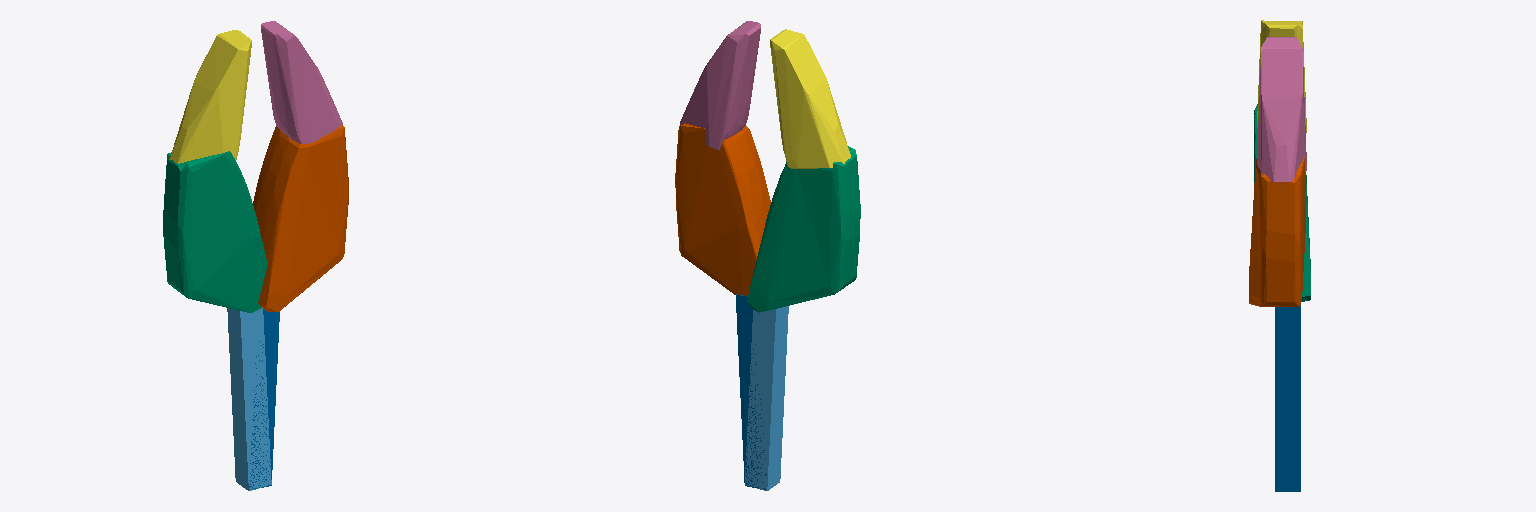
The robot description file, URDF, robot "lbr_iiwa_with_wsg50":
<?xml version="1.0" ?>
<robot name="lbr_iiwa_with_wsg50">
  <joint name="lbr_iiwa_with_wsg50__J0" type="revolute">
    <parent link="lbr_iiwa_with_wsg50__lbr_iiwa_link_0"/>
    <child link="lbr_iiwa_with_wsg50__lbr_iiwa_link_1"/>
    <origin rpy="0 0 0" xyz="0     0     0.1575"/>
    <axis xyz="0 0 1"/>
    <limit effort="300.0" lower="-2.96706" upper="2.96706" velocity="10.0"/>
  </joint>
  <joint name="lbr_iiwa_with_wsg50__J1" type="revolute">
    <parent link="lbr_iiwa_with_wsg50__lbr_iiwa_link_1"/>
    <child link="lbr_iiwa_with_wsg50__lbr_iiwa_link_2"/>
    <origin rpy="1.5708   0      -3.14159" xyz="0     0     0.2025"/>
    <axis xyz="0 0 1"/>
    <limit effort="300.0" lower="-2.0944" upper="2.0944" velocity="10.0"/>
  </joint>
  <joint name="lbr_iiwa_with_wsg50__J2" type="revolute">
    <parent link="lbr_iiwa_with_wsg50__lbr_iiwa_link_2"/>
    <child link="lbr_iiwa_with_wsg50__lbr_iiwa_link_3"/>
    <origin rpy="1.5708   0      -3.14159" xyz="0     0.2045 0"/>
    <axis xyz="0 0 1"/>
    <limit effort="300.0" lower="-2.96706" upper="2.96706" velocity="10.0"/>
  </joint>
  <joint name="lbr_iiwa_with_wsg50__J3" type="revolute">
    <parent link="lbr_iiwa_with_wsg50__lbr_iiwa_link_3"/>
    <child link="lbr_iiwa_with_wsg50__lbr_iiwa_link_4"/>
    <origin rpy="1.5708 0     0" xyz="0     0     0.2155"/>
    <axis xyz="0 0 1"/>
    <limit effort="300.0" lower="-2.0944" upper="2.0944" velocity="10.0"/>
  </joint>
  <joint name="lbr_iiwa_with_wsg50__J4" type="revolute">
    <parent link="lbr_iiwa_with_wsg50__lbr_iiwa_link_4"/>
    <child link="lbr_iiwa_with_wsg50__lbr_iiwa_link_5"/>
    <origin rpy="1.5708  0      3.14159" xyz="0     0.1845 0"/>
    <axis xyz="0 0 1"/>
    <limit effort="300.0" lower="-2.96706" upper="2.96706" velocity="10.0"/>
  </joint>
  <joint name="lbr_iiwa_with_wsg50__J5" type="revolute">
    <parent link="lbr_iiwa_with_wsg50__lbr_iiwa_link_5"/>
    <child link="lbr_iiwa_with_wsg50__lbr_iiwa_link_6"/>
    <origin rpy="1.5708 0     0" xyz="0     0     0.2155"/>
    <axis xyz="0 0 1"/>
    <limit effort="300.0" lower="-2.0944" upper="2.0944" velocity="10.0"/>
  </joint>
  <joint name="lbr_iiwa_with_wsg50__J6" type="revolute">
    <parent link="lbr_iiwa_with_wsg50__lbr_iiwa_link_6"/>
    <child link="lbr_iiwa_with_wsg50__lbr_iiwa_link_7"/>
    <origin rpy="1.5708   0      -3.14159" xyz="0    0.081 0"/>
    <axis xyz="0 0 1"/>
    <limit effort="300.0" lower="-3.05433" upper="3.05433" velocity="10.0"/>
  </joint>
  <joint name="lbr_iiwa_with_wsg50__gripper_to_arm" type="continuous">
    <parent link="lbr_iiwa_with_wsg50__lbr_iiwa_link_7"/>
    <child link="lbr_iiwa_with_wsg50__base_link"/>
    <origin rpy="0 0 0" xyz="0    0    0.044"/>
    <axis xyz="0 0 1"/>
    <limit effort="0" lower="0" upper="0" velocity="0"/>
  </joint>
  <joint name="lbr_iiwa_with_wsg50__base_left_finger_joint" type="revolute">
    <parent link="lbr_iiwa_with_wsg50__base_link"/>
    <child link="lbr_iiwa_with_wsg50__left_finger"/>
    <origin rpy="0   -0.05  0" xyz="0    0.024 0.045"/>
    <axis xyz="0 1 0"/>
    <limit effort="100.0" lower="-10.4" upper="10.01" velocity="0.0"/>
  </joint>
  <joint name="lbr_iiwa_with_wsg50__left_finger_base_joint" type="fixed">
    <parent link="lbr_iiwa_with_wsg50__left_finger"/>
    <child link="lbr_iiwa_with_wsg50__left_finger_base"/>
    <origin rpy="0   -0.25  0" xyz="-0.00099  0       0.08015"/>
    <axis xyz="0 0 0"/>
    <limit effort="0" lower="0" upper="0" velocity="0"/>
  </joint>
  <joint name="lbr_iiwa_with_wsg50__left_base_tip_joint" type="revolute">
    <parent link="lbr_iiwa_with_wsg50__left_finger_base"/>
    <child link="lbr_iiwa_with_wsg50__left_finger_tip"/>
    <origin rpy="0  0.5 0" xyz="0.0034  0      0.06175"/>
    <axis xyz="0 1 0"/>
    <limit effort="0.0" lower="-10.1" upper="10.3" velocity="0.0"/>
  </joint>
  <joint name="lbr_iiwa_with_wsg50__base_right_finger_joint" type="revolute">
    <parent link="lbr_iiwa_with_wsg50__base_link"/>
    <child link="lbr_iiwa_with_wsg50__right_finger"/>
    <origin rpy="0   0.05 0" xyz="0    0.024 0.045"/>
    <axis xyz="0 1 0"/>
    <limit effort="100.0" lower="-10.01" upper="10.4" velocity="0.0"/>
  </joint>
  <joint name="lbr_iiwa_with_wsg50__right_finger_base_joint" type="fixed">
    <parent link="lbr_iiwa_with_wsg50__right_finger"/>
    <child link="lbr_iiwa_with_wsg50__right_finger_base"/>
    <origin rpy="0   0.25 0" xyz="0.00099 0      0.08015"/>
    <axis xyz="0 0 0"/>
    <limit effort="0" lower="0" upper="0" velocity="0"/>
  </joint>
  <joint name="lbr_iiwa_with_wsg50__right_base_tip_joint" type="revolute">
    <parent link="lbr_iiwa_with_wsg50__right_finger_base"/>
    <child link="lbr_iiwa_with_wsg50__right_finger_tip"/>
    <origin rpy="0  -0.5  0" xyz="-0.0034   0       0.06175"/>
    <axis xyz="0 1 0"/>
    <limit effort="0.0" lower="-10.3" upper="10.1" velocity="0.0"/>
  </joint>
  <link name="lbr_iiwa_with_wsg50__lbr_iiwa_link_0">
    <inertial>
      <mass value="0"/>
      <origin rpy="0 0 0" xyz="-0.1   0    0.07"/>
      <inertia ixx="0.05" ixy="0" ixz="0" iyy="0.06" iyz="0" izz="0.03"/>
    </inertial>
    <collision name="lbr_iiwa_with_wsg50__lbr_iiwa_link_0_collision">
      <origin rpy="0 0 0" xyz="0 0 0"/>
      <geometry>
        <mesh filename="meshes/finger_tip_left.stl OR meshes/link_3.stl OR meshes/finger_base_right.stl OR meshes/link_5.stl OR meshes/link_7.stl OR meshes/link_0.stl OR meshes/finger_tip_right.stl OR meshes/link_1.stl OR meshes/link_4.stl OR meshes/link_6.stl OR meshes/link_2.stl OR meshes/finger_base_left.stl" scale="1 1 1"/>
      </geometry>
    </collision>
    <visual name="lbr_iiwa_with_wsg50__lbr_iiwa_link_0_visual">
      <origin rpy="0 0 0" xyz="0 0 0"/>
      <geometry>
        <mesh filename="meshes/link_0.obj " scale="1 1 1"/>
      </geometry>
    </visual>
  </link>
  <link name="lbr_iiwa_with_wsg50__lbr_iiwa_link_1">
    <inertial>
      <mass value="4"/>
      <origin rpy="0 0 0" xyz="0   -0.03  0.12"/>
      <inertia ixx="0.1" ixy="0" ixz="0" iyy="0.09" iyz="0" izz="0.02"/>
    </inertial>
    <collision name="lbr_iiwa_with_wsg50__lbr_iiwa_link_1_collision">
      <origin rpy="0 0 0" xyz="0 0 0"/>
      <geometry>
        <mesh filename="meshes/finger_tip_left.stl OR meshes/link_3.stl OR meshes/finger_base_right.stl OR meshes/link_5.stl OR meshes/link_7.stl OR meshes/link_0.stl OR meshes/finger_tip_right.stl OR meshes/link_1.stl OR meshes/link_4.stl OR meshes/link_6.stl OR meshes/link_2.stl OR meshes/finger_base_left.stl" scale="1 1 1"/>
      </geometry>
    </collision>
    <visual name="lbr_iiwa_with_wsg50__lbr_iiwa_link_1_visual">
      <origin rpy="0 0 0" xyz="0 0 0"/>
      <geometry>
        <mesh filename="meshes/link_1.obj" scale="1 1 1"/>
      </geometry>
    </visual>
  </link>
  <link name="lbr_iiwa_with_wsg50__lbr_iiwa_link_2">
    <inertial>
      <mass value="4"/>
      <origin rpy="0 0 0" xyz="0.00029 0.059   0.042"/>
      <inertia ixx="0.05" ixy="0" ixz="0" iyy="0.018" iyz="0" izz="0.044"/>
    </inertial>
    <collision name="lbr_iiwa_with_wsg50__lbr_iiwa_link_2_collision">
      <origin rpy="0 0 0" xyz="0 0 0"/>
      <geometry>
        <mesh filename="meshes/finger_tip_left.stl OR meshes/link_3.stl OR meshes/finger_base_right.stl OR meshes/link_5.stl OR meshes/link_7.stl OR meshes/link_0.stl OR meshes/finger_tip_right.stl OR meshes/link_1.stl OR meshes/link_4.stl OR meshes/link_6.stl OR meshes/link_2.stl OR meshes/finger_base_left.stl" scale="1 1 1"/>
      </geometry>
    </collision>
    <visual name="lbr_iiwa_with_wsg50__lbr_iiwa_link_2_visual">
      <origin rpy="0 0 0" xyz="0 0 0"/>
      <geometry>
        <mesh filename="meshes/link_2.obj" scale="1 1 1"/>
      </geometry>
    </visual>
  </link>
  <link name="lbr_iiwa_with_wsg50__lbr_iiwa_link_3">
    <inertial>
      <mass value="3"/>
      <origin rpy="0 0 0" xyz="0   0.03 0.13"/>
      <inertia ixx="0.08" ixy="0" ixz="0" iyy="0.075" iyz="0" izz="0.01"/>
    </inertial>
    <collision name="lbr_iiwa_with_wsg50__lbr_iiwa_link_3_collision">
      <origin rpy="0 0 0" xyz="0 0 0"/>
      <geometry>
        <mesh filename="meshes/finger_tip_left.stl OR meshes/link_3.stl OR meshes/finger_base_right.stl OR meshes/link_5.stl OR meshes/link_7.stl OR meshes/link_0.stl OR meshes/finger_tip_right.stl OR meshes/link_1.stl OR meshes/link_4.stl OR meshes/link_6.stl OR meshes/link_2.stl OR meshes/finger_base_left.stl" scale="1 1 1"/>
      </geometry>
    </collision>
    <visual name="lbr_iiwa_with_wsg50__lbr_iiwa_link_3_visual">
      <origin rpy="0 0 0" xyz="0 0 0"/>
      <geometry>
        <mesh filename="meshes/link_3.obj" scale="1 1 1"/>
      </geometry>
    </visual>
  </link>
  <link name="lbr_iiwa_with_wsg50__lbr_iiwa_link_4">
    <inertial>
      <mass value="2.7"/>
      <origin rpy="0 0 0" xyz="0    0.067 0.034"/>
      <inertia ixx="0.03" ixy="0" ixz="0" iyy="0.01" iyz="0" izz="0.029"/>
    </inertial>
    <collision name="lbr_iiwa_with_wsg50__lbr_iiwa_link_4_collision">
      <origin rpy="0 0 0" xyz="0 0 0"/>
      <geometry>
        <mesh filename="meshes/finger_tip_left.stl OR meshes/link_3.stl OR meshes/finger_base_right.stl OR meshes/link_5.stl OR meshes/link_7.stl OR meshes/link_0.stl OR meshes/finger_tip_right.stl OR meshes/link_1.stl OR meshes/link_4.stl OR meshes/link_6.stl OR meshes/link_2.stl OR meshes/finger_base_left.stl" scale="1 1 1"/>
      </geometry>
    </collision>
    <visual name="lbr_iiwa_with_wsg50__lbr_iiwa_link_4_visual">
      <origin rpy="0 0 0" xyz="0 0 0"/>
      <geometry>
        <mesh filename="meshes/link_4.obj" scale="1 1 1"/>
      </geometry>
    </visual>
  </link>
  <link name="lbr_iiwa_with_wsg50__lbr_iiwa_link_5">
    <inertial>
      <mass value="1.7"/>
      <origin rpy="0 0 0" xyz="0.0001 0.021  0.076"/>
      <inertia ixx="0.02" ixy="0" ixz="0" iyy="0.018" iyz="0" izz="0.005"/>
    </inertial>
    <collision name="lbr_iiwa_with_wsg50__lbr_iiwa_link_5_collision">
      <origin rpy="0 0 0" xyz="0 0 0"/>
      <geometry>
        <mesh filename="meshes/finger_tip_left.stl OR meshes/link_3.stl OR meshes/finger_base_right.stl OR meshes/link_5.stl OR meshes/link_7.stl OR meshes/link_0.stl OR meshes/finger_tip_right.stl OR meshes/link_1.stl OR meshes/link_4.stl OR meshes/link_6.stl OR meshes/link_2.stl OR meshes/finger_base_left.stl" scale="1 1 1"/>
      </geometry>
    </collision>
    <visual name="lbr_iiwa_with_wsg50__lbr_iiwa_link_5_visual">
      <origin rpy="0 0 0" xyz="0 0 0"/>
      <geometry>
        <mesh filename="meshes/link_5.obj" scale="1 1 1"/>
      </geometry>
    </visual>
  </link>
  <link name="lbr_iiwa_with_wsg50__lbr_iiwa_link_6">
    <inertial>
      <mass value="1.8"/>
      <origin rpy="0 0 0" xyz="0      0.00059 0.0004"/>
      <inertia ixx="0.005" ixy="0" ixz="0" iyy="0.0036" iyz="0" izz="0.0047"/>
    </inertial>
    <collision name="lbr_iiwa_with_wsg50__lbr_iiwa_link_6_collision">
      <origin rpy="0 0 0" xyz="0 0 0"/>
      <geometry>
        <mesh filename="meshes/finger_tip_left.stl OR meshes/link_3.stl OR meshes/finger_base_right.stl OR meshes/link_5.stl OR meshes/link_7.stl OR meshes/link_0.stl OR meshes/finger_tip_right.stl OR meshes/link_1.stl OR meshes/link_4.stl OR meshes/link_6.stl OR meshes/link_2.stl OR meshes/finger_base_left.stl" scale="1 1 1"/>
      </geometry>
    </collision>
    <visual name="lbr_iiwa_with_wsg50__lbr_iiwa_link_6_visual">
      <origin rpy="0 0 0" xyz="0 0 0"/>
      <geometry>
        <mesh filename="meshes/link_6.obj" scale="1 1 1"/>
      </geometry>
    </visual>
  </link>
  <link name="lbr_iiwa_with_wsg50__lbr_iiwa_link_7">
    <inertial>
      <mass value="1.3"/>
      <origin rpy="0 0 0" xyz="0   0   0.02"/>
      <inertia ixx="0.001" ixy="0" ixz="0" iyy="0.001" iyz="0" izz="0.001"/>
    </inertial>
    <collision name="lbr_iiwa_with_wsg50__lbr_iiwa_link_7_collision">
      <origin rpy="0 0 0" xyz="0 0 0"/>
      <geometry>
        <mesh filename="meshes/finger_tip_left.stl OR meshes/link_3.stl OR meshes/finger_base_right.stl OR meshes/link_5.stl OR meshes/link_7.stl OR meshes/link_0.stl OR meshes/finger_tip_right.stl OR meshes/link_1.stl OR meshes/link_4.stl OR meshes/link_6.stl OR meshes/link_2.stl OR meshes/finger_base_left.stl" scale="1 1 1"/>
      </geometry>
    </collision>
    <visual name="lbr_iiwa_with_wsg50__lbr_iiwa_link_7_visual">
      <origin rpy="0 0 0" xyz="0 0 0"/>
      <geometry>
        <mesh filename="meshes/link_7.obj" scale="1 1 1"/>
      </geometry>
    </visual>
  </link>
  <link name="lbr_iiwa_with_wsg50__base_link">
    <inertial>
      <mass value="0.2"/>
      <origin rpy="0 0 0" xyz="0 0 0"/>
      <inertia ixx="1" ixy="0" ixz="0" iyy="1" iyz="0" izz="1"/>
    </inertial>
    <collision name="lbr_iiwa_with_wsg50__base_link_collision">
      <origin rpy="0 0 0" xyz="0 0 0"/>
      <geometry>
        <box size="0.05 0.05 0.1"/>
      </geometry>
    </collision>
    <visual name="lbr_iiwa_with_wsg50__base_link_visual">
      <origin rpy="0 0 0" xyz="0 0 0"/>
      <geometry>
        <mesh filename="meshes/link_7.obj" scale="1 1 1"/>
      </geometry>
    </visual>
  </link>
  <link name="lbr_iiwa_with_wsg50__left_finger">
    <inertial>
      <mass value="0.2"/>
      <origin rpy="0 0 0" xyz="0   0   0.04"/>
      <inertia ixx="0.1" ixy="0" ixz="0" iyy="0.1" iyz="0" izz="0.1"/>
    </inertial>
    <collision name="lbr_iiwa_with_wsg50__left_finger_collision">
      <origin rpy="0 0 0" xyz="0   0   0.04"/>
      <geometry>
        <box size="0.01 0.01 0.08"/>
      </geometry>
    </collision>
    <visual name="lbr_iiwa_with_wsg50__left_finger_visual">
      <origin rpy="0 0 0" xyz="0   0   0.04"/>
      <geometry>
        <box size="0.01 0.01 0.08"/>
      </geometry>
    </visual>
  </link>
  <link name="lbr_iiwa_with_wsg50__left_finger_base">
    <inertial>
      <mass value="0.2"/>
      <origin rpy="0 0 0" xyz="-0.003  0     0.04"/>
      <inertia ixx="0.1" ixy="0" ixz="0" iyy="0.1" iyz="0" izz="0.1"/>
    </inertial>
    <collision name="lbr_iiwa_with_wsg50__left_finger_base_collision">
      <origin rpy="0 0 0" xyz="0 0 0"/>
      <geometry>
        <mesh filename="meshes/finger_tip_left.stl OR meshes/link_3.stl OR meshes/finger_base_right.stl OR meshes/link_5.stl OR meshes/link_7.stl OR meshes/link_0.stl OR meshes/finger_tip_right.stl OR meshes/link_1.stl OR meshes/link_4.stl OR meshes/link_6.stl OR meshes/link_2.stl OR meshes/finger_base_left.stl" scale="1 1 1"/>
      </geometry>
    </collision>
    <visual name="lbr_iiwa_with_wsg50__left_finger_base_visual">
      <origin rpy="0 0 0" xyz="0 0 0"/>
      <geometry>
        <mesh filename="meshes/finger_base_left.obj" scale="1 1 1"/>
      </geometry>
    </visual>
  </link>
  <link name="lbr_iiwa_with_wsg50__left_finger_tip">
    <inertial>
      <mass value="0.2"/>
      <origin rpy="0 0 0" xyz="-0.005  0     0.026"/>
      <inertia ixx="0.1" ixy="0" ixz="0" iyy="0.1" iyz="0" izz="0.1"/>
    </inertial>
    <collision name="lbr_iiwa_with_wsg50__left_finger_tip_collision">
      <origin rpy="0 0 0" xyz="0 0 0"/>
      <geometry>
        <mesh filename="meshes/finger_tip_left.stl OR meshes/link_3.stl OR meshes/finger_base_right.stl OR meshes/link_5.stl OR meshes/link_7.stl OR meshes/link_0.stl OR meshes/finger_tip_right.stl OR meshes/link_1.stl OR meshes/link_4.stl OR meshes/link_6.stl OR meshes/link_2.stl OR meshes/finger_base_left.stl" scale="1 1 1"/>
      </geometry>
    </collision>
    <visual name="lbr_iiwa_with_wsg50__left_finger_tip_visual">
      <origin rpy="0 0 0" xyz="0 0 0"/>
      <geometry>
        <mesh filename="meshes/finger_tip_left.obj" scale="1 1 1"/>
      </geometry>
    </visual>
  </link>
  <link name="lbr_iiwa_with_wsg50__right_finger">
    <inertial>
      <mass value="0.2"/>
      <origin rpy="0 0 0" xyz="0   0   0.04"/>
      <inertia ixx="0.1" ixy="0" ixz="0" iyy="0.1" iyz="0" izz="0.1"/>
    </inertial>
    <collision name="lbr_iiwa_with_wsg50__right_finger_collision">
      <origin rpy="0 0 0" xyz="0   0   0.04"/>
      <geometry>
        <box size="0.01 0.01 0.08"/>
      </geometry>
    </collision>
    <visual name="lbr_iiwa_with_wsg50__right_finger_visual">
      <origin rpy="0 0 0" xyz="0   0   0.04"/>
      <geometry>
        <box size="0.01 0.01 0.08"/>
      </geometry>
    </visual>
  </link>
  <link name="lbr_iiwa_with_wsg50__right_finger_base">
    <inertial>
      <mass value="0.2"/>
      <origin rpy="0 0 0" xyz="0.003 0    0.04"/>
      <inertia ixx="0.1" ixy="0" ixz="0" iyy="0.1" iyz="0" izz="0.1"/>
    </inertial>
    <collision name="lbr_iiwa_with_wsg50__right_finger_base_collision">
      <origin rpy="0 0 0" xyz="0 0 0"/>
      <geometry>
        <mesh filename="meshes/finger_tip_left.stl OR meshes/link_3.stl OR meshes/finger_base_right.stl OR meshes/link_5.stl OR meshes/link_7.stl OR meshes/link_0.stl OR meshes/finger_tip_right.stl OR meshes/link_1.stl OR meshes/link_4.stl OR meshes/link_6.stl OR meshes/link_2.stl OR meshes/finger_base_left.stl" scale="1 1 1"/>
      </geometry>
    </collision>
    <visual name="lbr_iiwa_with_wsg50__right_finger_base_visual">
      <origin rpy="0 0 0" xyz="0 0 0"/>
      <geometry>
        <mesh filename="meshes/finger_base_right.obj" scale="1 1 1"/>
      </geometry>
    </visual>
  </link>
  <link name="lbr_iiwa_with_wsg50__right_finger_tip">
    <inertial>
      <mass value="0.2"/>
      <origin rpy="0 0 0" xyz="0.005 0    0.026"/>
      <inertia ixx="0.1" ixy="0" ixz="0" iyy="0.1" iyz="0" izz="0.1"/>
    </inertial>
    <collision name="lbr_iiwa_with_wsg50__right_finger_tip_collision">
      <origin rpy="0 0 0" xyz="0 0 0"/>
      <geometry>
        <mesh filename="meshes/finger_tip_left.stl OR meshes/link_3.stl OR meshes/finger_base_right.stl OR meshes/link_5.stl OR meshes/link_7.stl OR meshes/link_0.stl OR meshes/finger_tip_right.stl OR meshes/link_1.stl OR meshes/link_4.stl OR meshes/link_6.stl OR meshes/link_2.stl OR meshes/finger_base_left.stl" scale="1 1 1"/>
      </geometry>
    </collision>
    <visual name="lbr_iiwa_with_wsg50__right_finger_visual">
      <origin rpy="0 0 0" xyz="0 0 0"/>
      <geometry>
        <mesh filename="meshes/finger_tip_right.obj" scale="1 1 1"/>
      </geometry>
    </visual>
  </link>
</robot>

--- Facts derived from the render (not from the file) ---
The picture shows the robot from 3 angles, left to right: view 1: azimuth 30°, elevation 25°; view 2: azimuth 150°, elevation 25°; view 3: azimuth 270°, elevation 25°; orthographic projection.
Robot: lbr_iiwa_with_wsg50 — 15 links, 14 joints (11 revolute, 1 continuous, 2 fixed); root link lbr_iiwa_with_wsg50__lbr_iiwa_link_0; default pose: every joint at zero.
Links seen in each view (by area): view 1: lbr_iiwa_with_wsg50__left_finger_base, lbr_iiwa_with_wsg50__right_finger_base, lbr_iiwa_with_wsg50__left_finger_tip, lbr_iiwa_with_wsg50__left_finger, lbr_iiwa_with_wsg50__right_finger_tip, lbr_iiwa_with_wsg50__right_finger; view 2: lbr_iiwa_with_wsg50__left_finger_base, lbr_iiwa_with_wsg50__right_finger_base, lbr_iiwa_with_wsg50__left_finger_tip, lbr_iiwa_with_wsg50__left_finger, lbr_iiwa_with_wsg50__right_finger_tip, lbr_iiwa_with_wsg50__right_finger; view 3: lbr_iiwa_with_wsg50__right_finger_base, lbr_iiwa_with_wsg50__right_finger_tip, lbr_iiwa_with_wsg50__right_finger, lbr_iiwa_with_wsg50__left_finger_tip, lbr_iiwa_with_wsg50__left_finger_base.
Link boxes in pixels (bbox=[...]): lbr_iiwa_with_wsg50__left_finger_base: bbox=[163, 151, 267, 312]; lbr_iiwa_with_wsg50__right_finger_base: bbox=[253, 125, 348, 312]; lbr_iiwa_with_wsg50__left_finger_tip: bbox=[169, 30, 251, 163]; lbr_iiwa_with_wsg50__left_finger: bbox=[227, 308, 271, 490]; lbr_iiwa_with_wsg50__right_finger_tip: bbox=[261, 21, 342, 143]; lbr_iiwa_with_wsg50__right_finger: bbox=[249, 309, 279, 489]; lbr_iiwa_with_wsg50__left_finger_base: bbox=[747, 146, 860, 312]; lbr_iiwa_with_wsg50__right_finger_base: bbox=[675, 123, 770, 295]; lbr_iiwa_with_wsg50__left_finger_tip: bbox=[770, 29, 850, 168]; lbr_iiwa_with_wsg50__left_finger: bbox=[745, 306, 788, 490]; lbr_iiwa_with_wsg50__right_finger_tip: bbox=[680, 21, 760, 149]; lbr_iiwa_with_wsg50__right_finger: bbox=[736, 294, 766, 489]; lbr_iiwa_with_wsg50__right_finger_base: bbox=[1249, 157, 1305, 306]; lbr_iiwa_with_wsg50__right_finger_tip: bbox=[1257, 37, 1306, 181]; lbr_iiwa_with_wsg50__right_finger: bbox=[1275, 305, 1300, 491]; lbr_iiwa_with_wsg50__left_finger_tip: bbox=[1257, 20, 1306, 132]; lbr_iiwa_with_wsg50__left_finger_base: bbox=[1254, 104, 1310, 301].
Size in the robot's own frame: 0.0753 by 0.0238 by 0.1899 metres.
Meshes: 12 distinct files referenced, 4 mesh visuals loaded (4 OBJ); not drawn: 9 (reference not matched to a file when rendering).